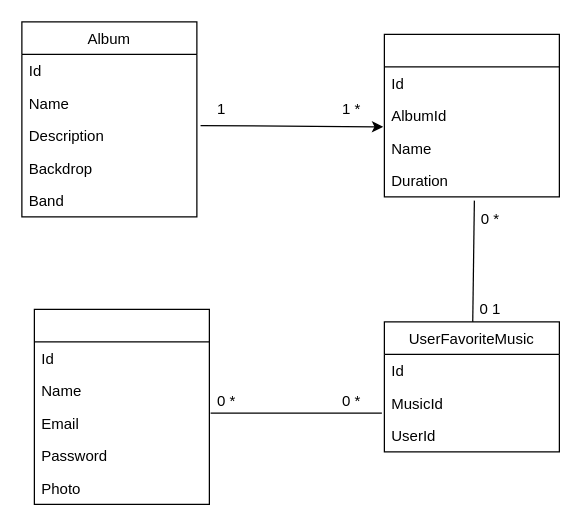
This 581x530 diagram has some shape labels left out. Each missing label, with the box of its shape:
Music: (383, 33, 559, 197)
User: (33, 308, 209, 504)
